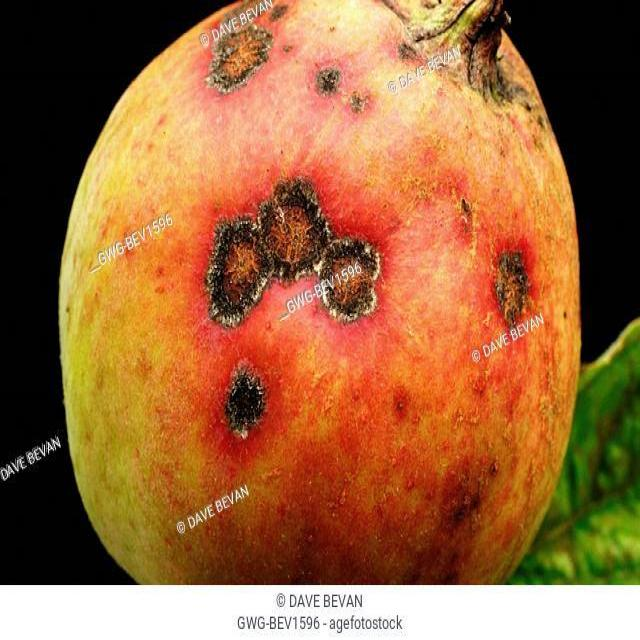Rotten: (53, 0, 583, 607)
